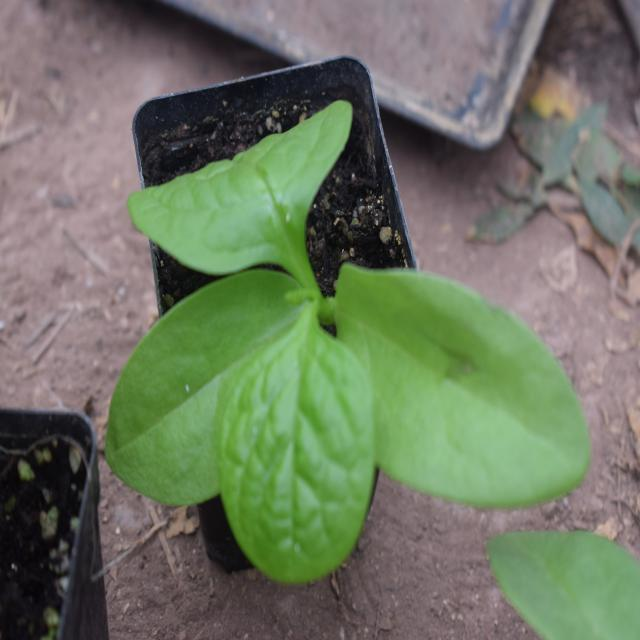Ceylon spinach: (116, 172, 581, 518)
